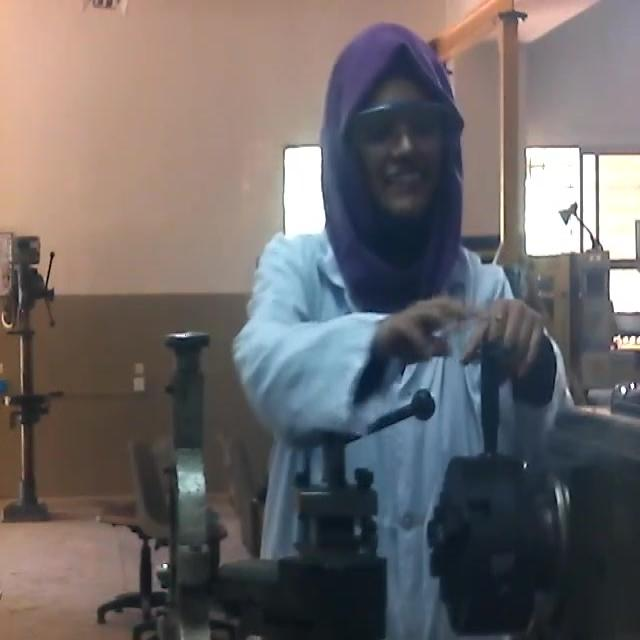googles: (351, 98, 450, 158)
labcoat: (236, 224, 573, 640)
